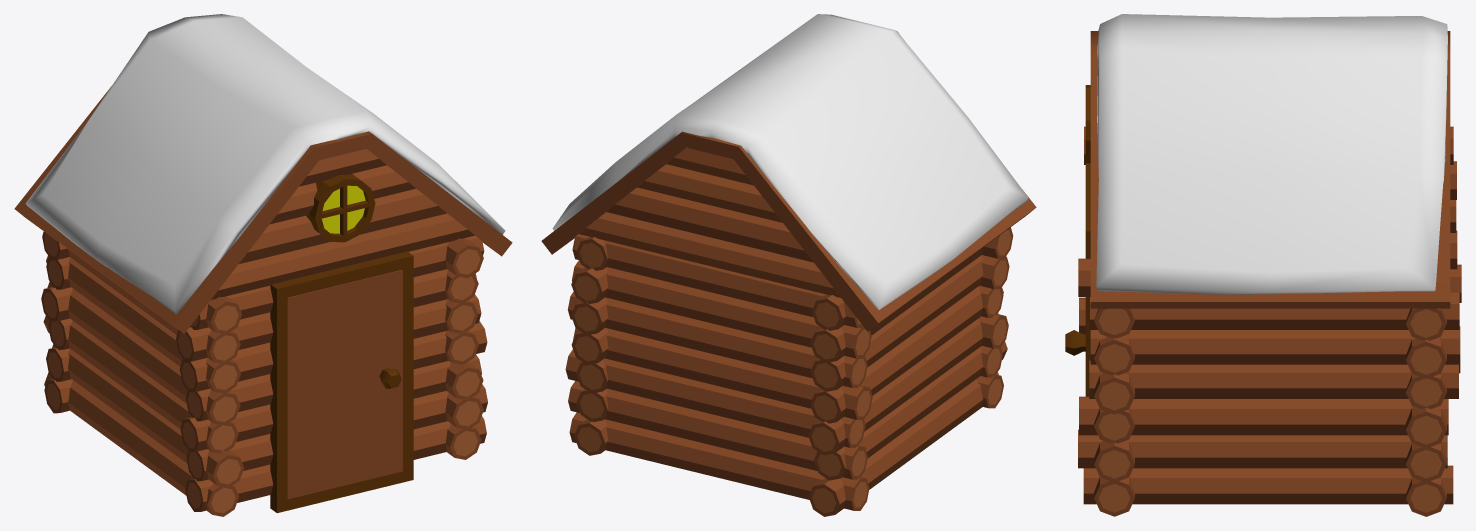
The model's file is house_single_mesh.fbx.
The picture shows the model from 3 angles, left to right: view 1: azimuth 30°, elevation 25°; view 2: azimuth 150°, elevation 25°; view 3: azimuth 270°, elevation 25°; orthographic projection. The views are drawn at different scales.
Visible parts, largest first — view 1: house_single_mesh; view 2: house_single_mesh; view 3: house_single_mesh.
Part boxes in pixels (x1,y1,x2,y2): house_single_mesh: (14,14,512,516); house_single_mesh: (541,14,1036,516); house_single_mesh: (1065,14,1461,516).
Size of the model in its own units: 28.88 by 30.01 by 25.88.
